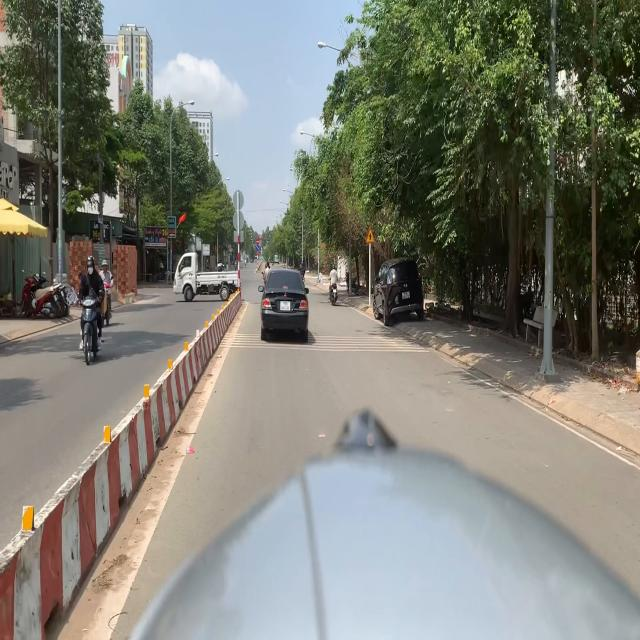Cam nguoc chieu: (256, 238, 259, 244)
Giao voi duong khong uu tien: (365, 228, 375, 244)
Hieu lenh: (256, 244, 260, 250)
